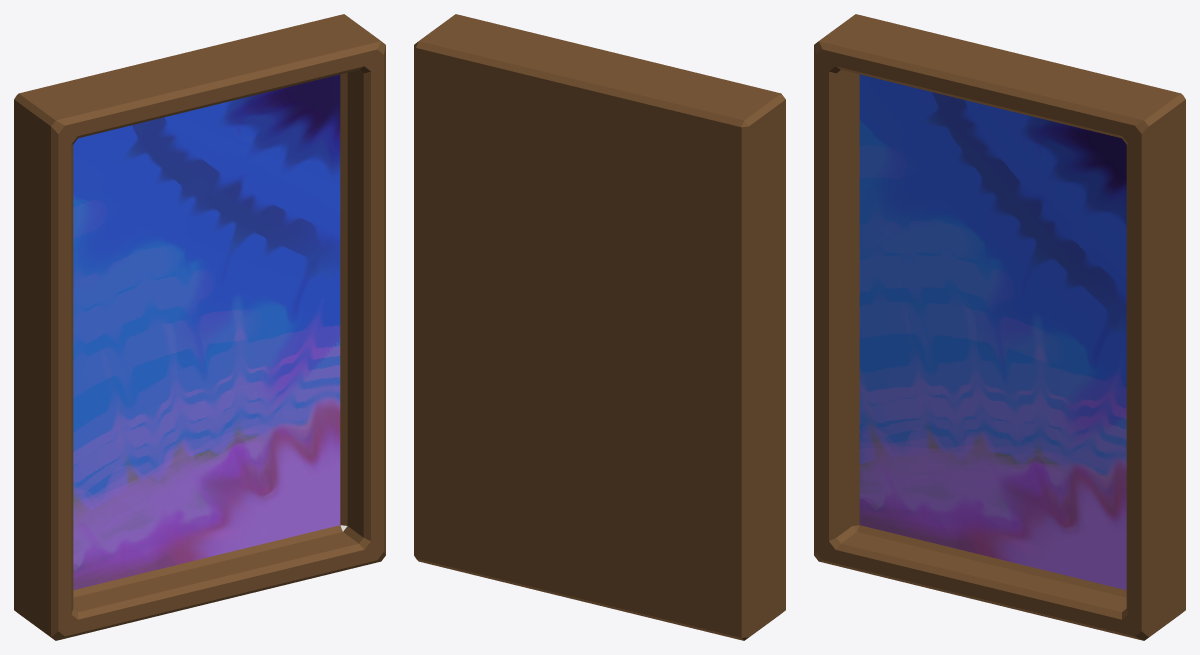
File: Painting2.fbx
3 views of the same model, side by side, from view 1: azimuth 30°, elevation 25°; view 2: azimuth 150°, elevation 25°; view 3: azimuth 330°, elevation 25° (orthographic).
Parts seen in each view (by area): view 1: Cube.001; view 2: Cube.001; view 3: Cube.001.
Boxes of the visible parts, <box> form: Cube.001: <box>14,14,385,640</box>; Cube.001: <box>414,14,785,640</box>; Cube.001: <box>814,14,1185,640</box>.
Bounding box in the file's own units: 480 × 713 × 105.
